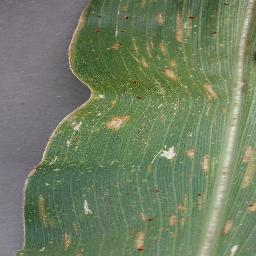Gray_Leaf_Spot: (56, 11, 85, 114), (13, 155, 37, 252), (153, 39, 183, 88), (229, 0, 251, 65), (35, 123, 63, 172), (117, 34, 156, 67), (56, 95, 90, 131), (241, 148, 256, 217), (167, 10, 196, 43), (94, 20, 124, 50), (130, 209, 149, 255), (179, 189, 208, 219), (229, 65, 251, 100), (118, 78, 151, 100), (32, 193, 51, 229), (221, 217, 238, 256), (157, 92, 180, 119), (55, 229, 74, 255), (104, 111, 127, 132), (80, 87, 107, 104), (201, 78, 217, 106), (197, 154, 215, 177), (154, 142, 174, 161), (165, 211, 183, 231), (76, 196, 90, 218), (153, 10, 170, 25), (205, 26, 223, 38), (147, 181, 163, 194), (120, 6, 131, 20), (185, 147, 197, 159)
